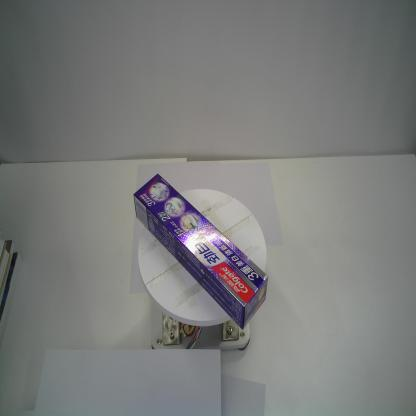Personal Hygiene: (133, 172, 269, 332)
